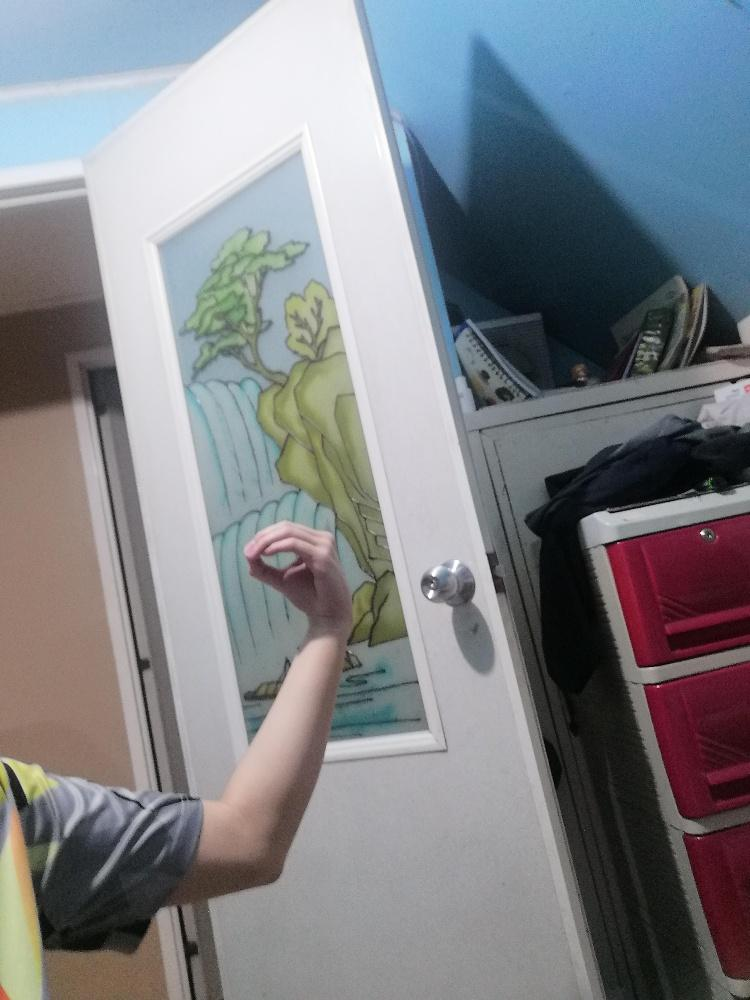o: (242, 519, 355, 625)
